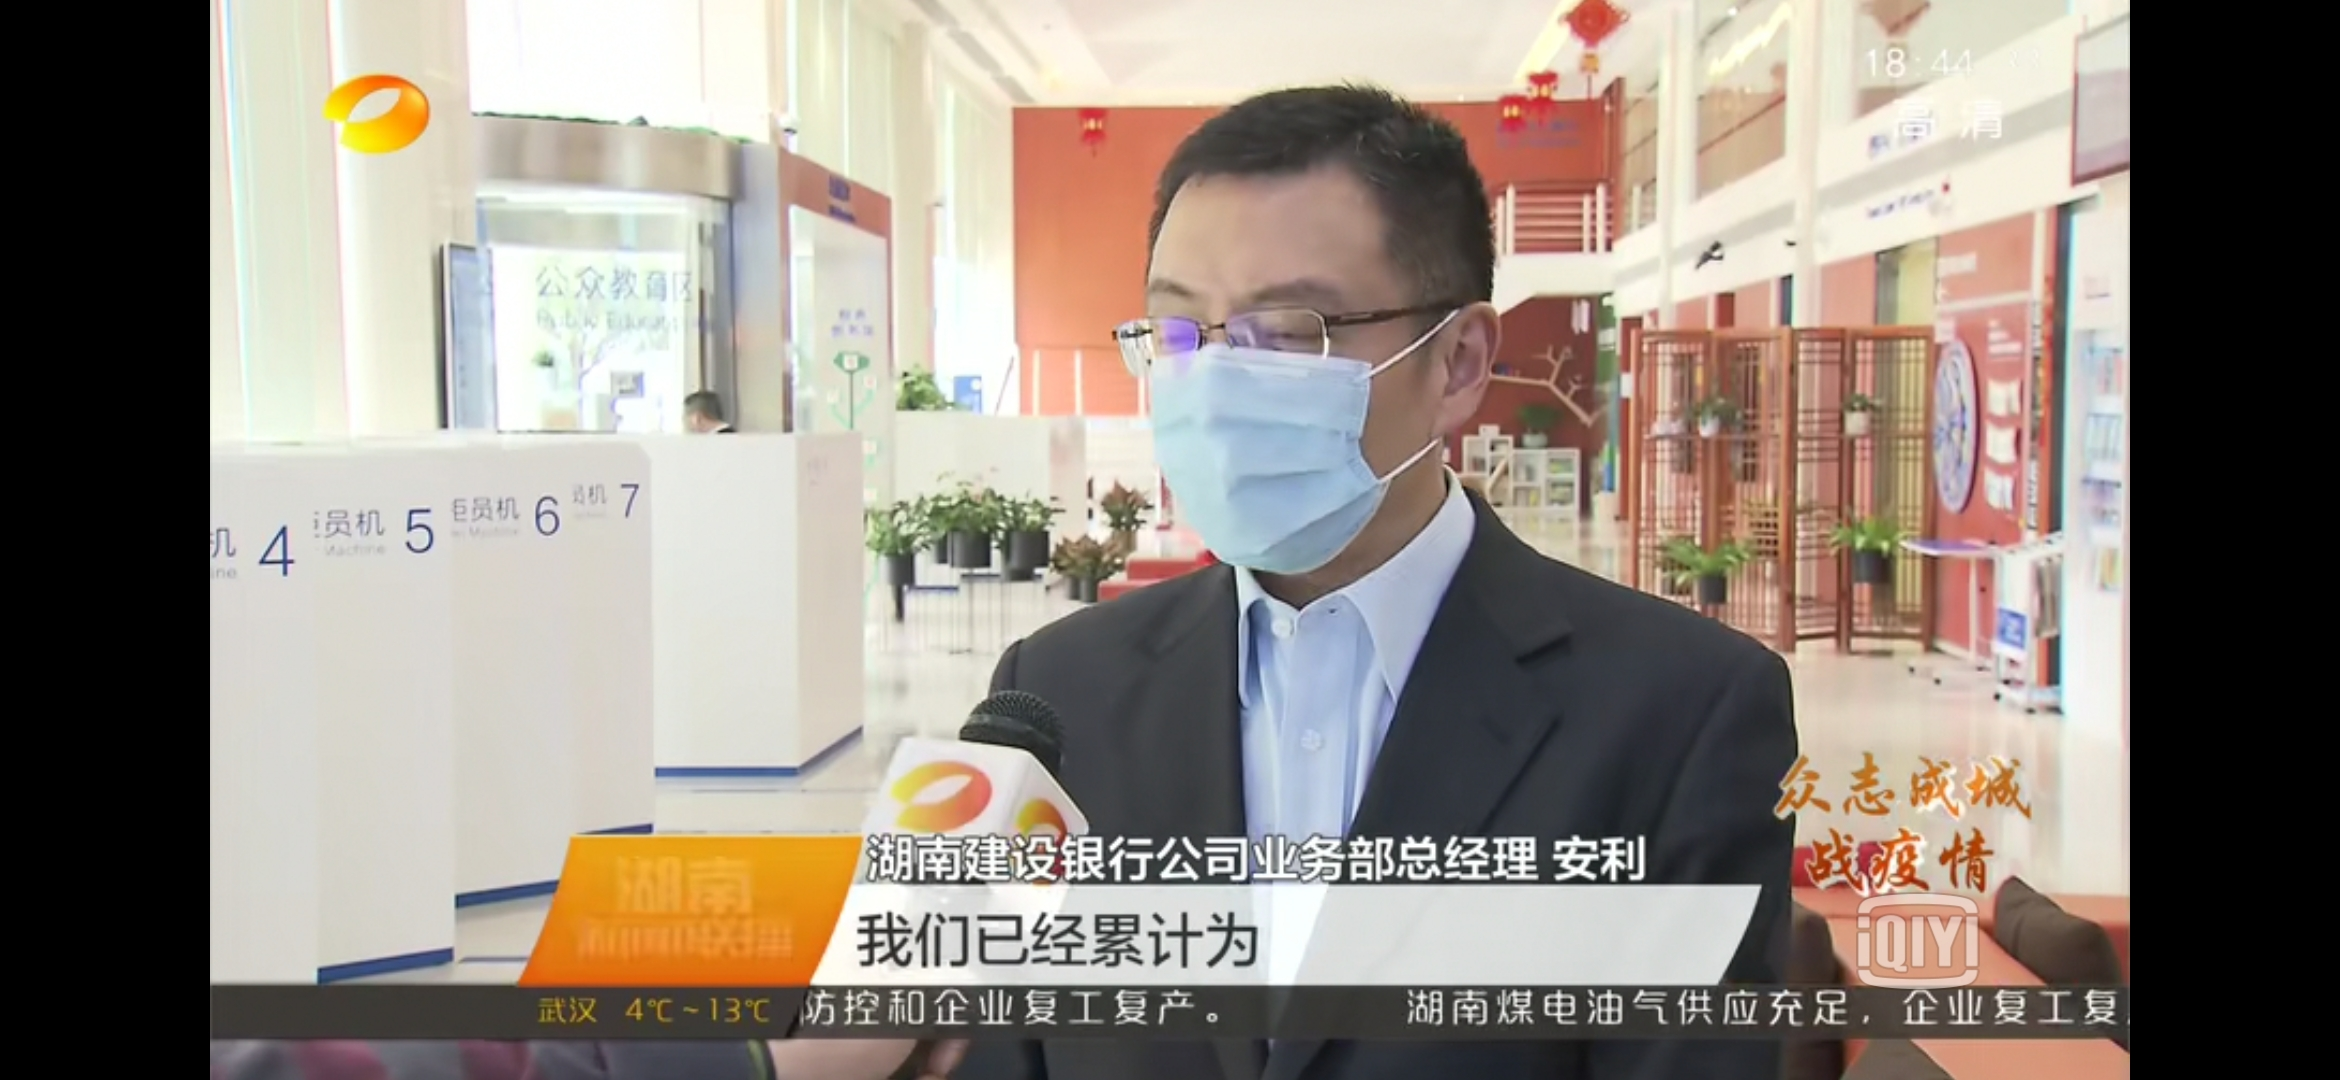correctlyWear: (1119, 266, 1504, 577)
